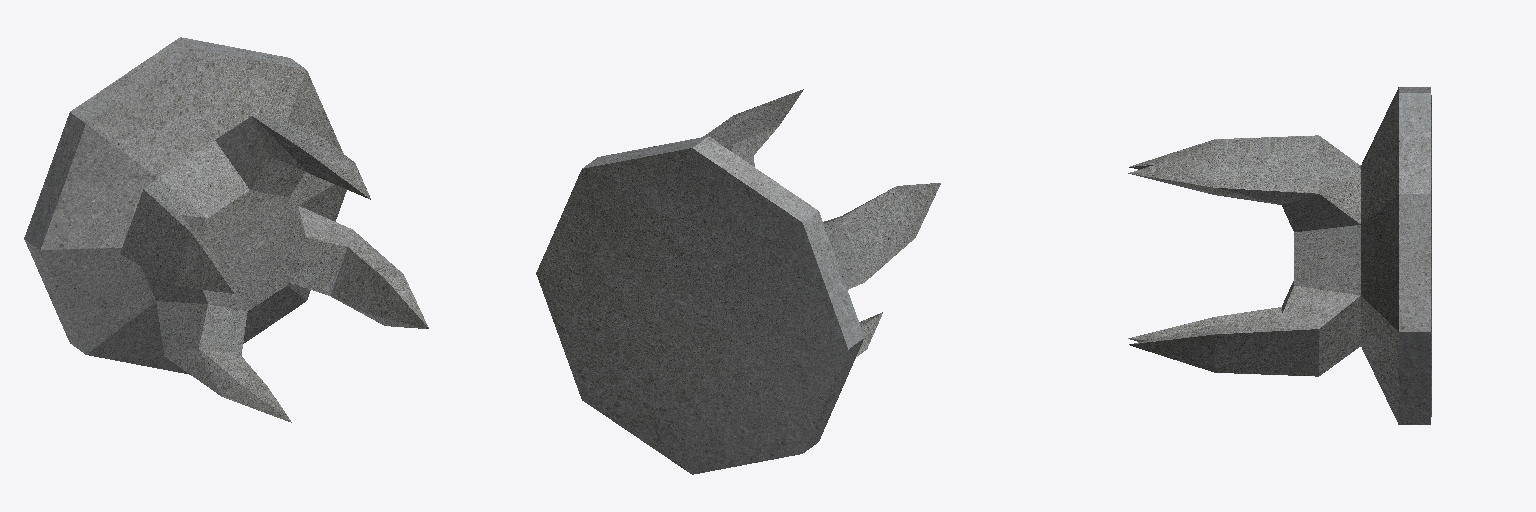
3 views of the same model, side by side, from view 1: azimuth 30°, elevation 25°; view 2: azimuth 150°, elevation 25°; view 3: azimuth 270°, elevation 25° (orthographic).
Visible parts, largest first — view 1: Sphere001; view 2: Sphere001; view 3: Sphere001.
Part boxes in pixels (left/top/right/bottom): Sphere001: left=24, top=37, right=428, bottom=422; Sphere001: left=536, top=89, right=940, bottom=474; Sphere001: left=1128, top=87, right=1431, bottom=424.
Size of the model in its own units: 5.32 by 5.32 by 4.49.
Materials: 1 (1 with a texture image).